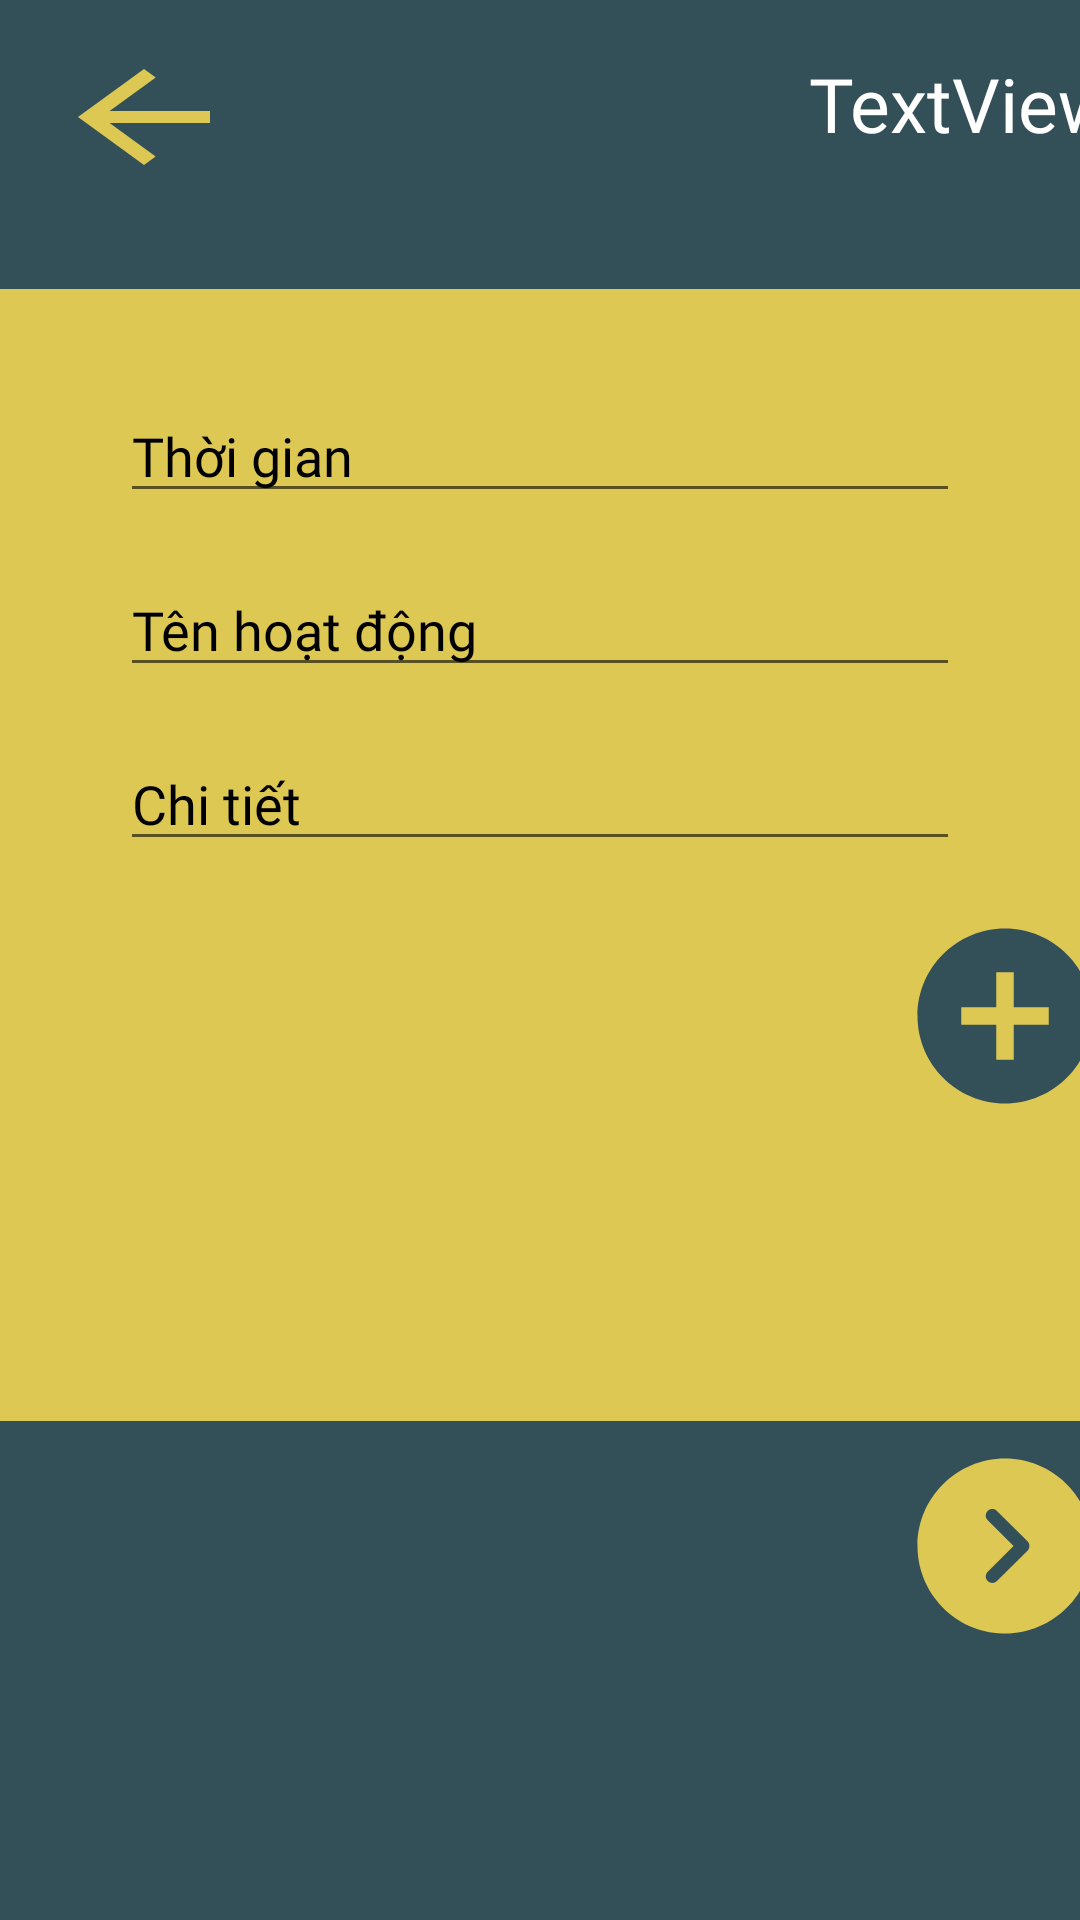

Icon click points for this 1080px×1920px phone screenshot, format (x=x, y=y):
arrow back: (x=144, y=117)
